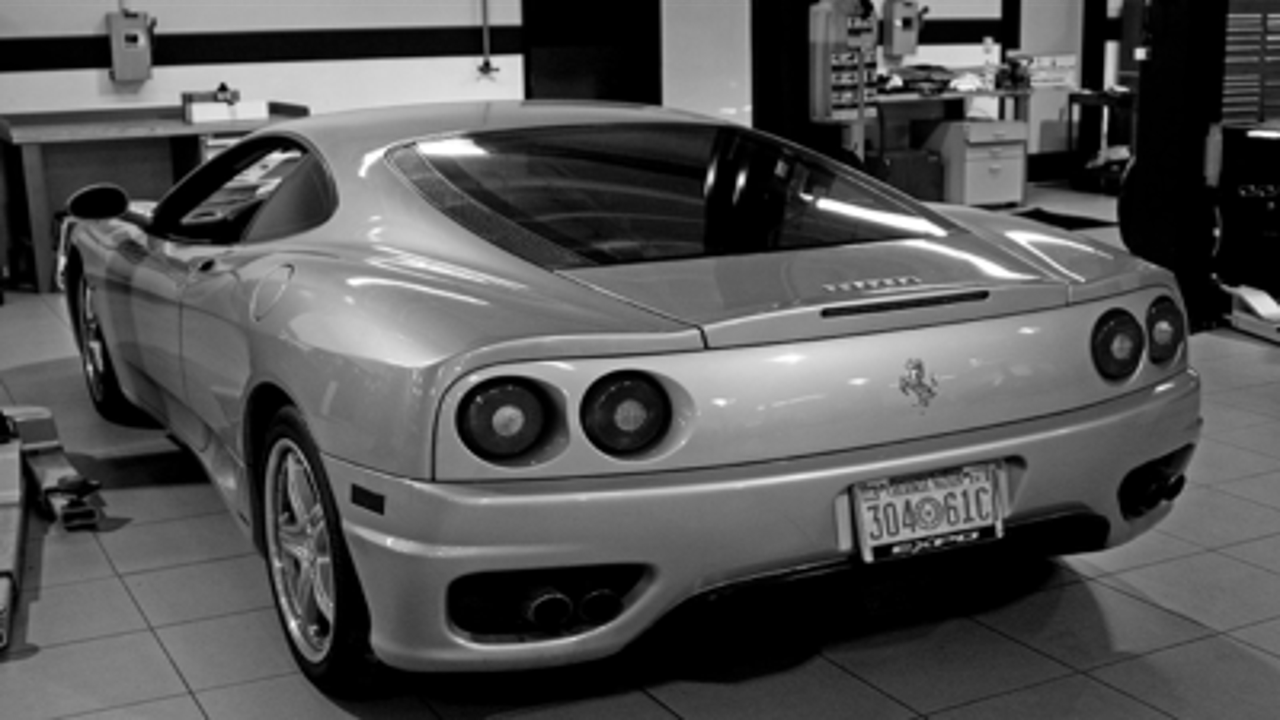license: (842, 458, 1020, 568)
